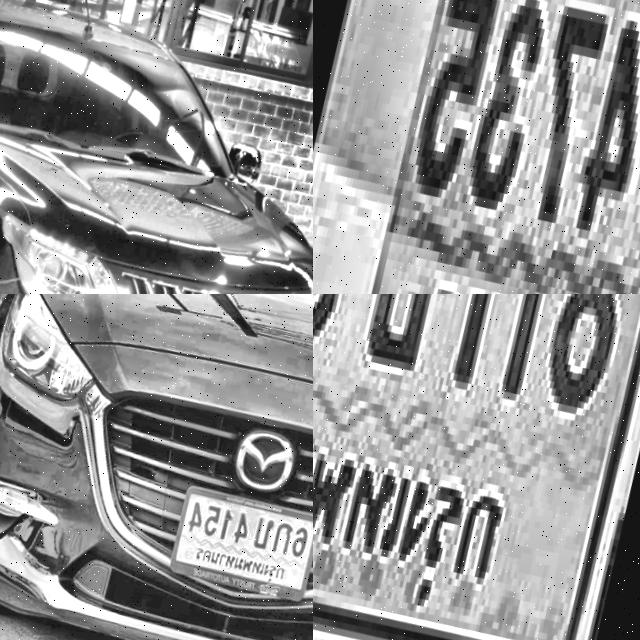license-plate: (313, 294, 640, 640), (313, 0, 640, 294), (158, 479, 313, 611)
